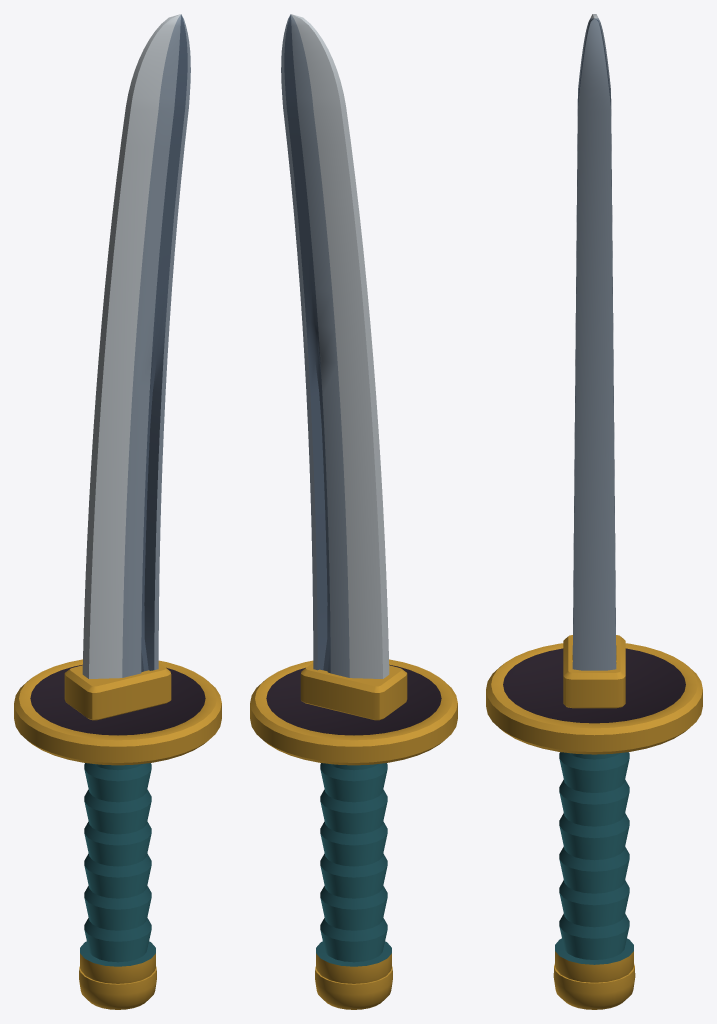
File: Katana_21.glb
3 renders of one model, left to right at view 1: azimuth 30°, elevation 25°; view 2: azimuth 150°, elevation 25°; view 3: azimuth 270°, elevation 25°, orthographic. The views are drawn at different scales.
Visible parts, largest first — view 1: Katana_21; view 2: Katana_21; view 3: Katana_21.
Boxes of the visible parts, box(x1,y1,x2,y2) form: Katana_21: box(14, 14, 221, 1009); Katana_21: box(250, 14, 457, 1009); Katana_21: box(486, 14, 702, 1009).
Bounding box in the file's own units: 1.28 × 6.56 × 1.28.
